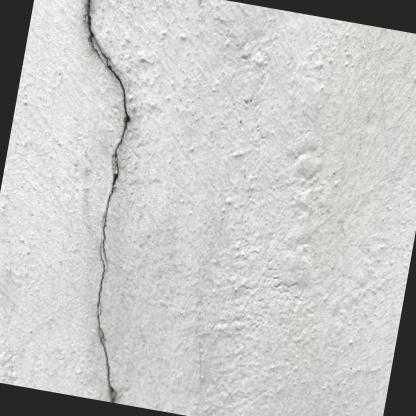crack: (85, 0, 129, 258), (96, 239, 116, 399)
